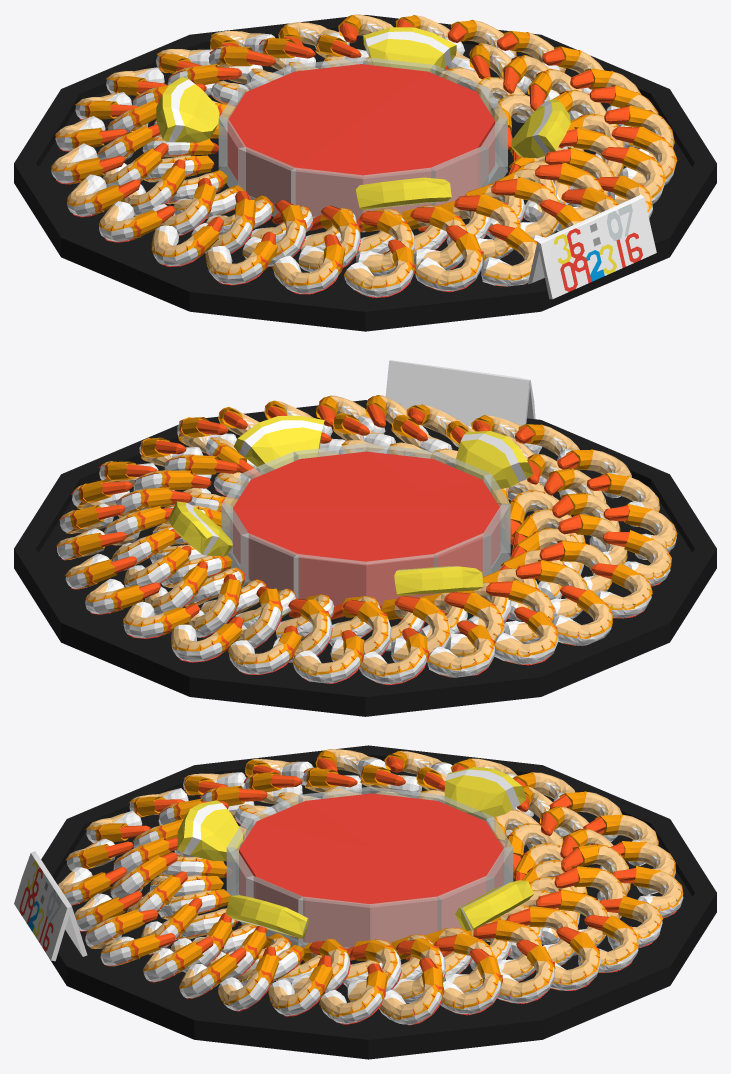
The model's file is shrimps.glb.
The picture shows the model from 3 angles, top to bottom: view 1: azimuth 30°, elevation 25°; view 2: azimuth 150°, elevation 25°; view 3: azimuth 270°, elevation 25°; orthographic projection.
Parts seen in each view (by area): view 1: group783218040, group150522944, group390493733, group1995678895, group2044516266, group1271615660, group1533103608, group184846690, group273873797, group1488138516, group1180287736, group938098149 (+64 smaller); view 2: group783218040, group150522944, group390493733, group384697707, group273873797, group1533103608, group1865145178, group1271615660, group800080041, group2067833510, group1899836938, group2044516266 (+64 smaller); view 3: group783218040, group150522944, group390493733, group1995678895, group1271615660, group1533103608, group973267652, group609364225, group273873797, group1702310609, group2044516266, group1930430495 (+67 smaller).
Part boxes in pixels (<box>): group783218040: <box>14,15,716,331</box>; group150522944: <box>227,64,494,219</box>; group390493733: <box>218,57,507,232</box>; group1995678895: <box>537,195,656,299</box>; group2044516266: <box>363,27,456,75</box>; group1271615660: <box>156,76,219,142</box>; group1533103608: <box>356,177,451,209</box>; group184846690: <box>415,225,483,292</box>; group273873797: <box>511,99,570,158</box>; group1488138516: <box>272,234,345,294</box>; group1180287736: <box>344,239,415,297</box>; group938098149: <box>481,223,537,286</box>; group783218040: <box>14,400,716,716</box>; group150522944: <box>233,451,499,605</box>; group390493733: <box>221,443,510,606</box>; group384697707: <box>385,360,529,426</box>; group273873797: <box>234,415,324,472</box>; group1533103608: <box>455,431,533,490</box>; group1865145178: <box>494,606,558,665</box>; group1271615660: <box>394,566,483,595</box>; group800080041: <box>552,585,612,645</box>; group2067833510: <box>427,620,495,677</box>; group1899836938: <box>359,628,429,685</box>; group2044516266: <box>168,501,232,556</box>; group783218040: <box>41,745,716,1059</box>; group150522944: <box>239,793,503,947</box>; group390493733: <box>226,786,513,948</box>; group1995678895: <box>14,851,71,961</box>; group1271615660: <box>444,767,526,819</box>; group1533103608: <box>177,800,242,861</box>; group973267652: <box>379,958,444,1025</box>; group609364225: <box>440,948,502,1015</box>; group273873797: <box>226,895,308,938</box>; group1702310609: <box>319,963,387,1024</box>; group2044516266: <box>455,880,533,930</box>; group1930430495: <box>497,939,555,1003</box>.
Size of the model in its own units: 2.26 by 0.2789 by 2.28.
